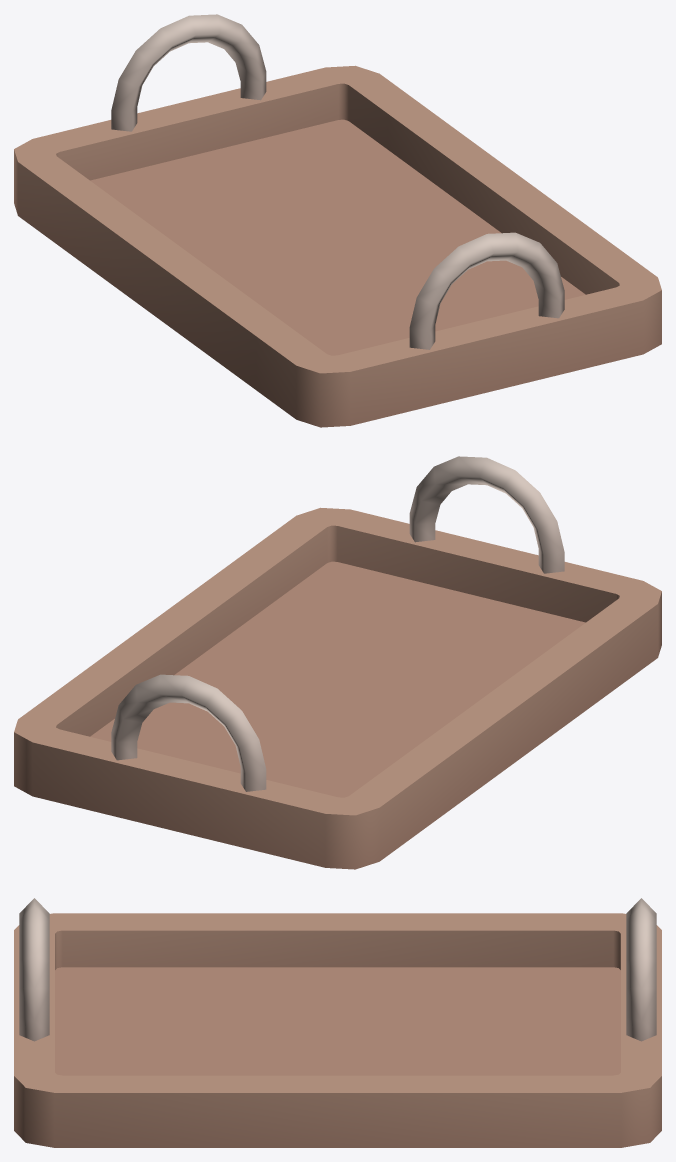
The model's file is serving-tray.glb.
3 views of the same model, one above another, from view 1: azimuth 30°, elevation 25°; view 2: azimuth 150°, elevation 25°; view 3: azimuth 270°, elevation 25° (orthographic).
Visible parts, largest first — view 1: serving-tray; view 2: serving-tray; view 3: serving-tray.
Part boxes in pixels (x1,y1,x2,y2): serving-tray: [14, 14, 661, 427]; serving-tray: [14, 456, 661, 869]; serving-tray: [14, 898, 661, 1147].
Size of the model in its own units: 0.42 by 0.1653 by 0.64.
